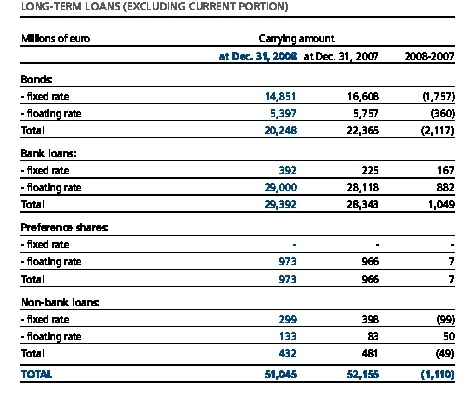table: (0, 0, 473, 396)
